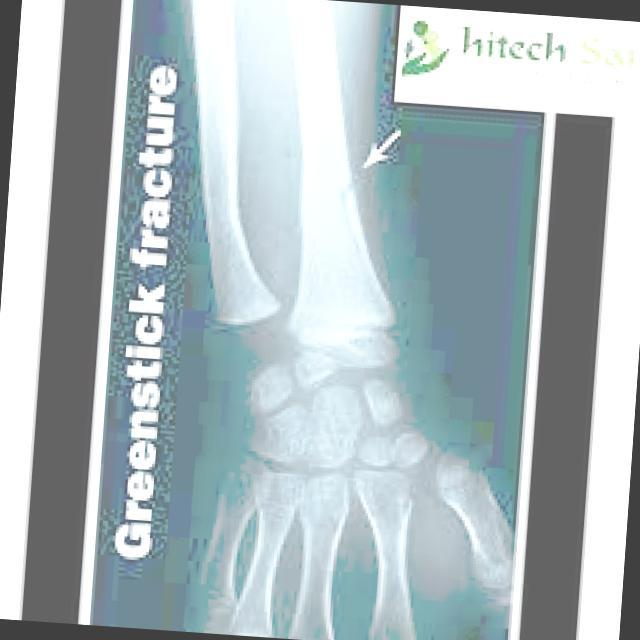GreenStick Fracture: (334, 176, 369, 247)
